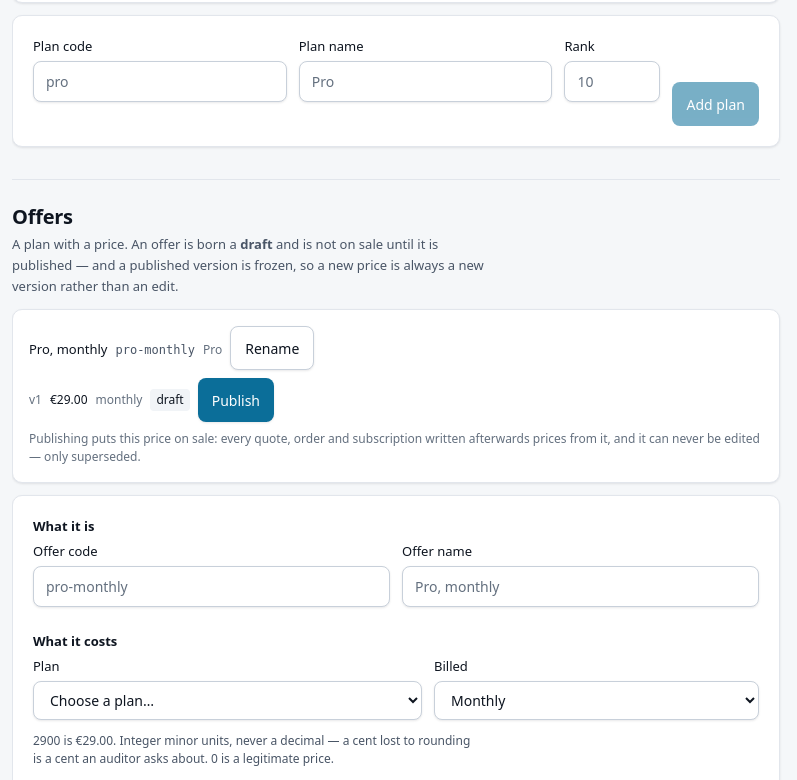
Test case: offers › surfaces a refusal to publish rather than looking as though it worked
(page scrolled)
expect the list with test id "offer-list" is shown: met, box [12,309,780,483]
Click the button "Publish" at (236, 400), box [198,378,274,422]
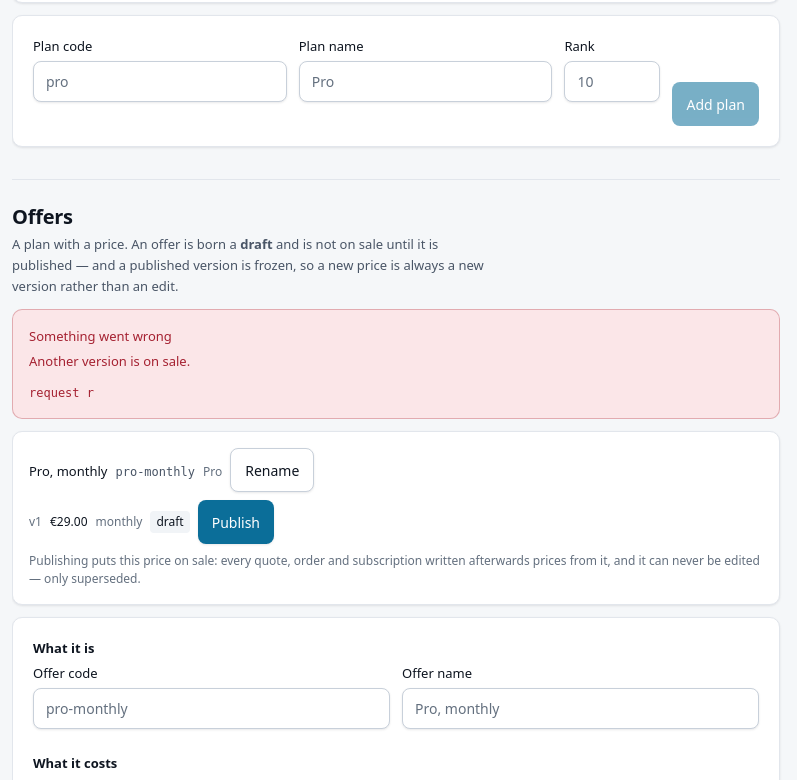
expect the message "Something went wrong Another version is on sale. request r" is shown: met, box [12,309,780,419]
